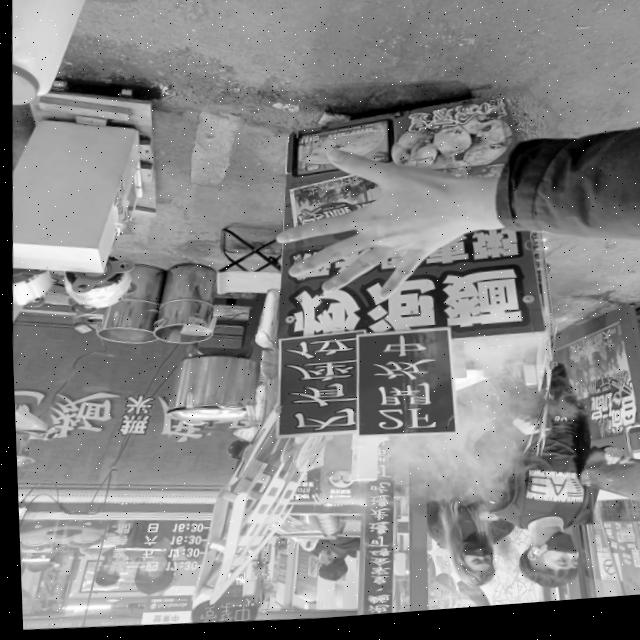hand: (264, 135, 502, 313)
